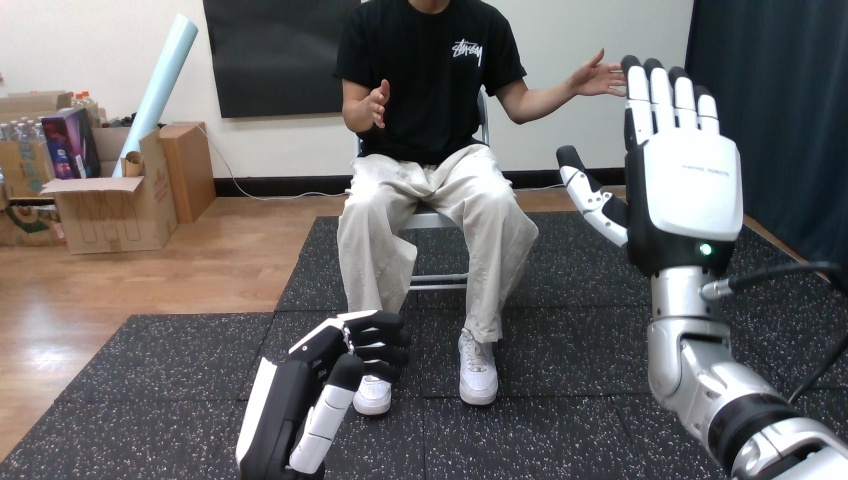left robot hand: (557, 56, 847, 479)
